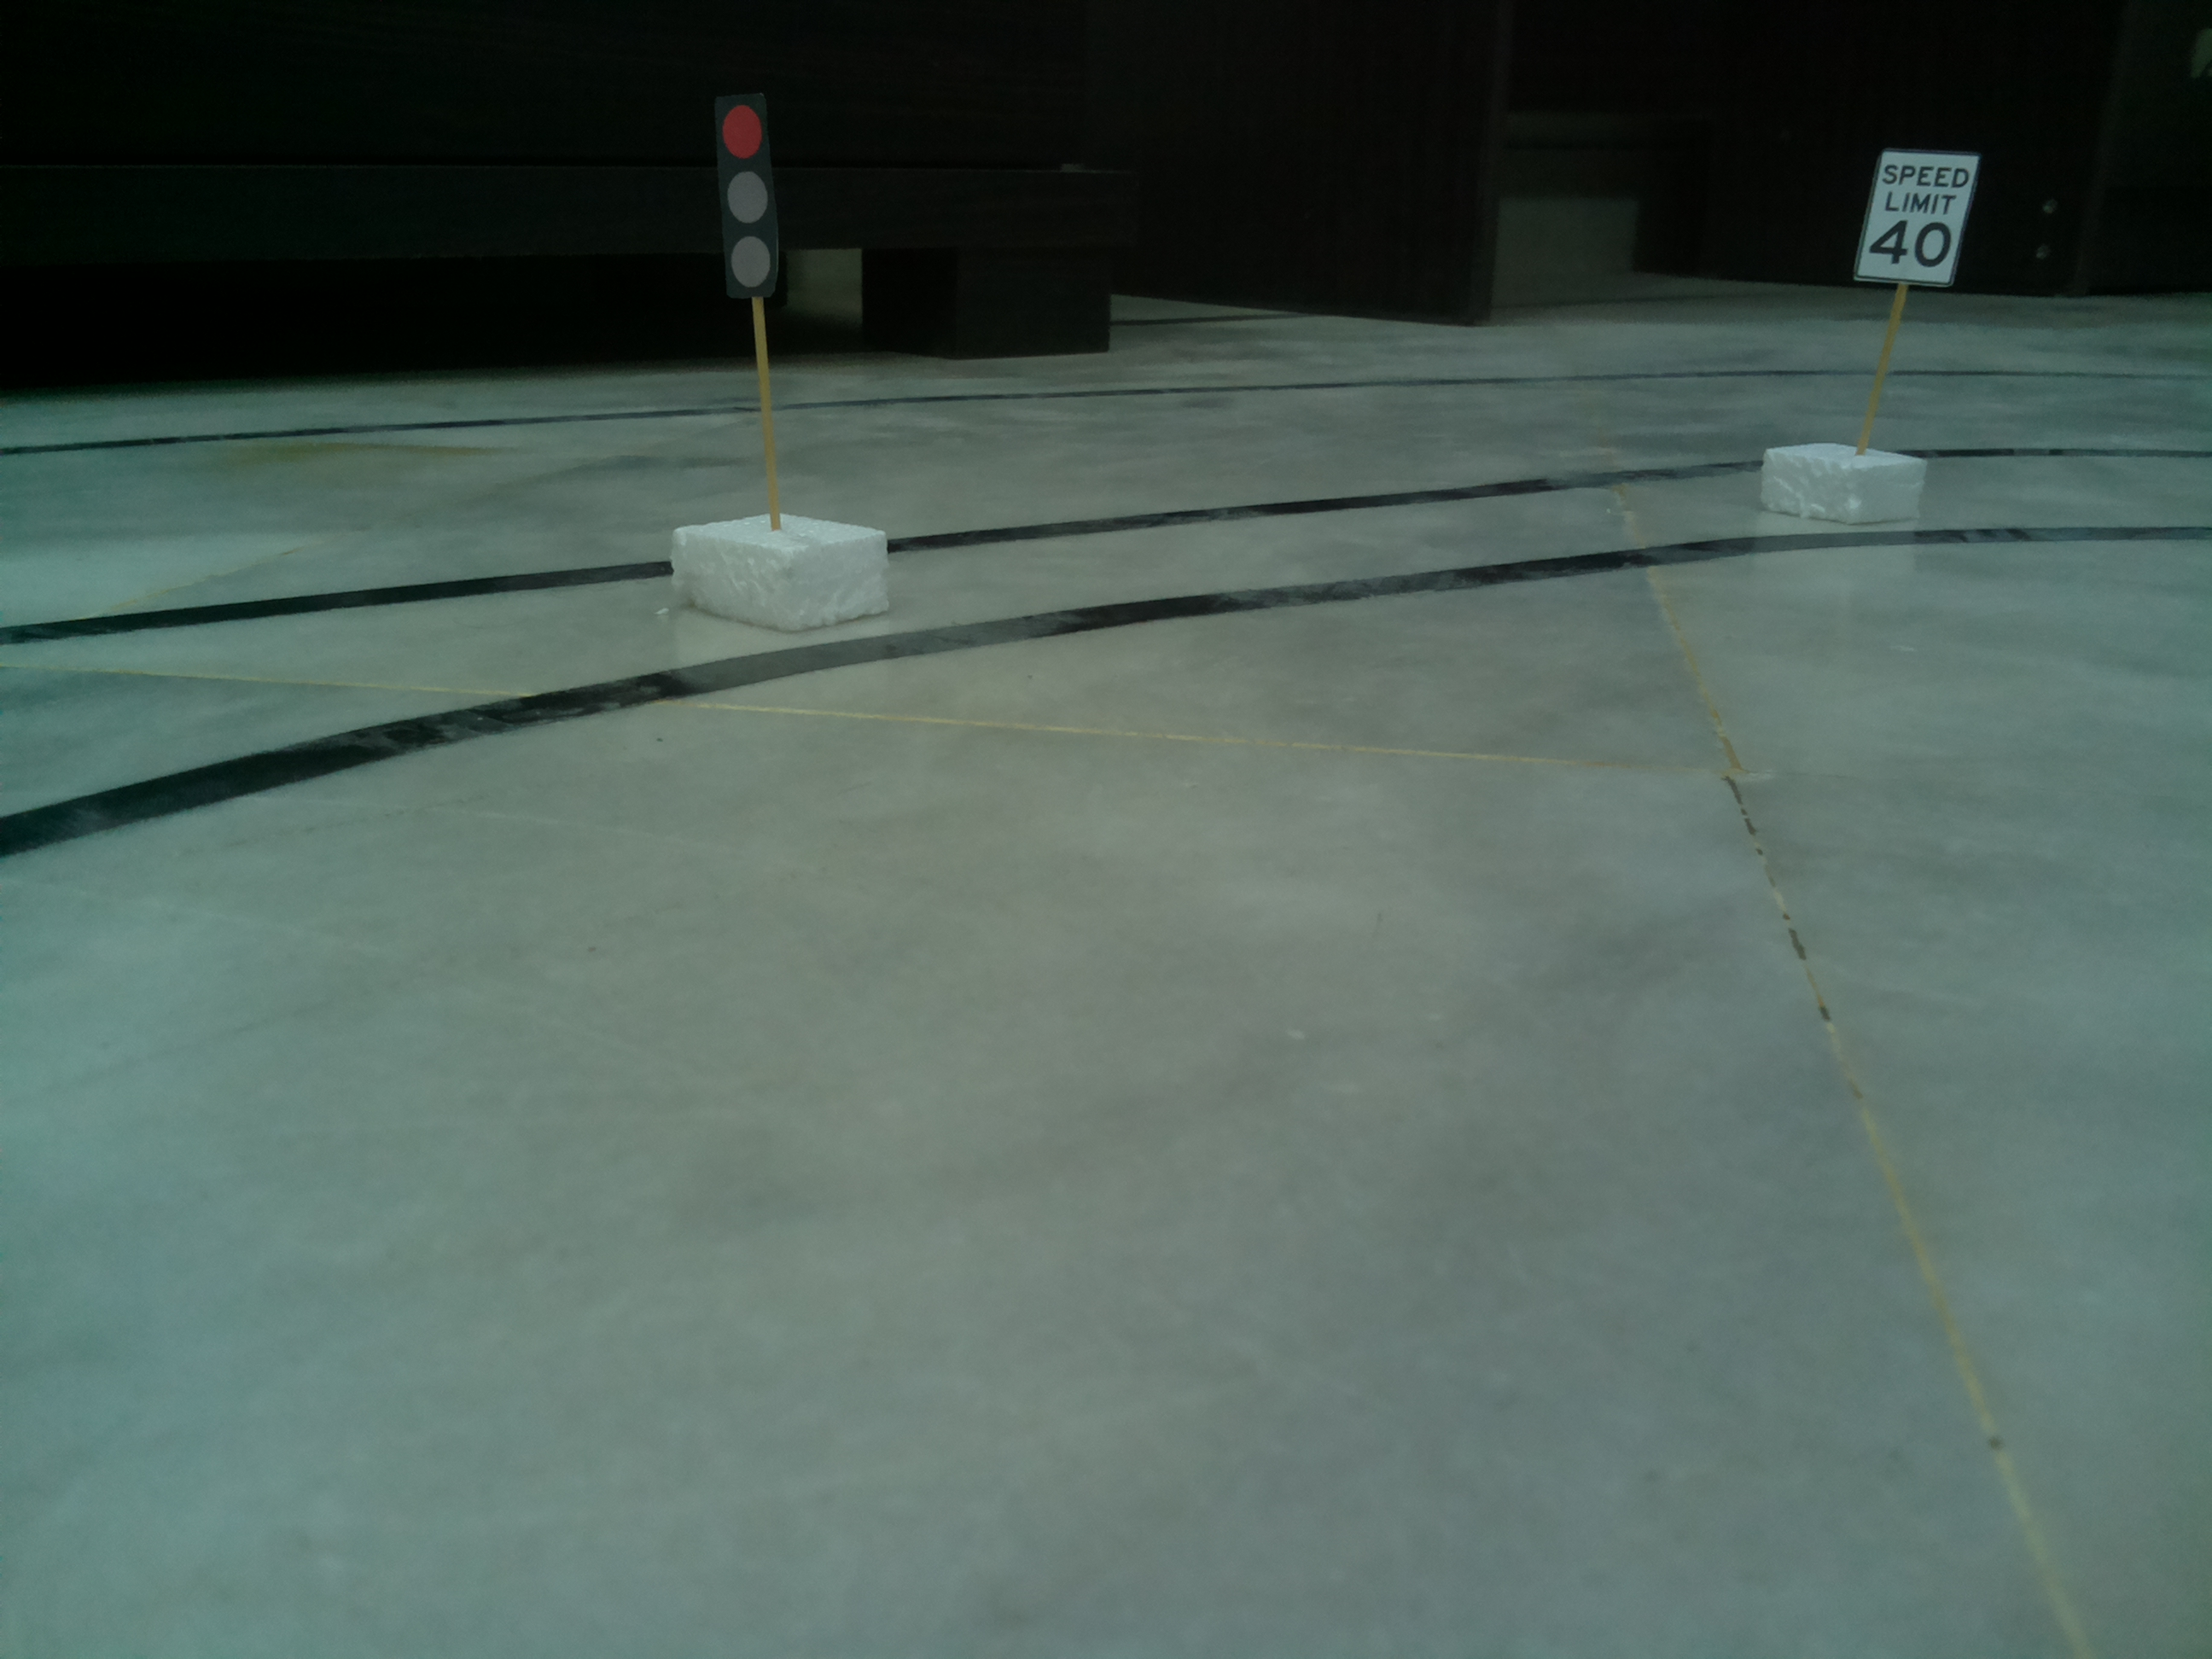Red traffic light: (693, 92, 794, 307)
Speed limit 40: (1865, 145, 1980, 310)
